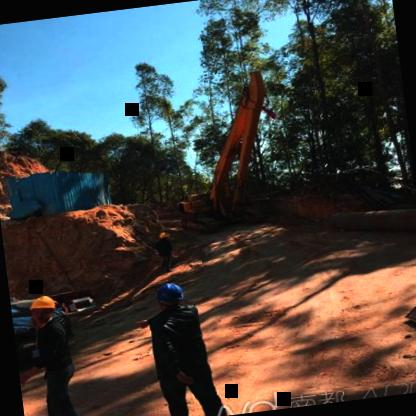helmet: (144, 277, 194, 310), (19, 290, 62, 327)
